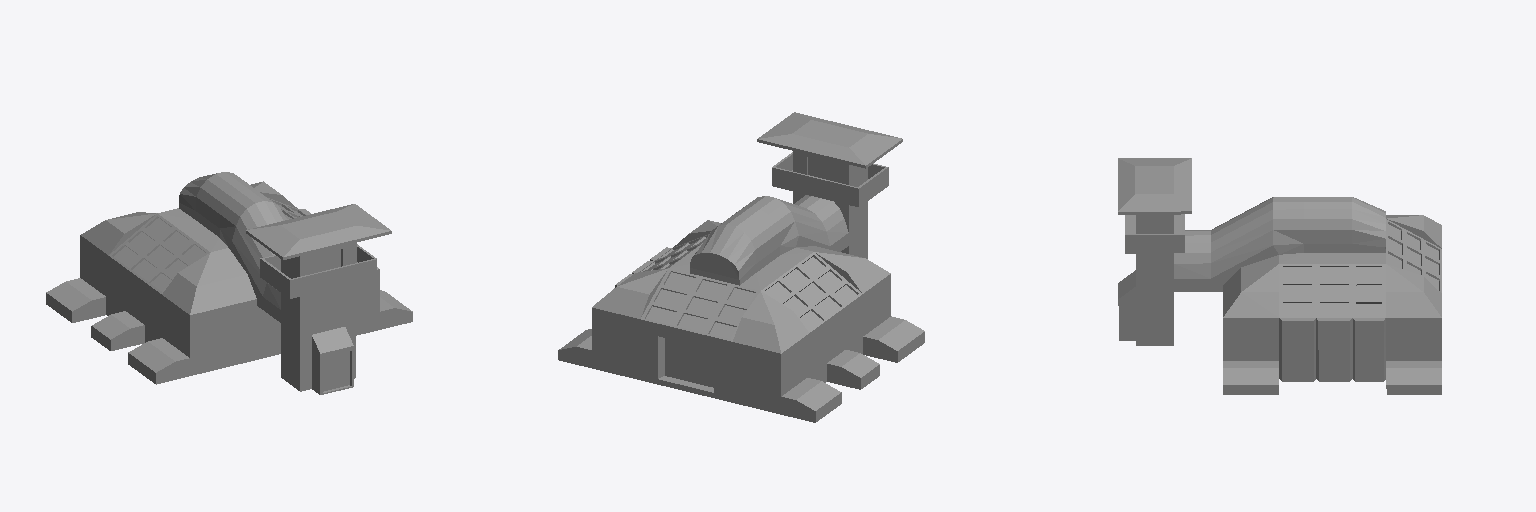
Rendered from barrack.obj.
3 renders of one model, left to right at view 1: azimuth 30°, elevation 25°; view 2: azimuth 150°, elevation 25°; view 3: azimuth 270°, elevation 25°, orthographic.
Parts seen in each view (by area): view 1: Cube; view 2: Cube; view 3: Cube.
Boxes of the visible parts, <box> form: Cube: <box>46,172,412,394</box>; Cube: <box>558,112,924,422</box>; Cube: <box>1118,158,1441,394</box>.
Size of the model in its own units: 281 by 159 by 306.